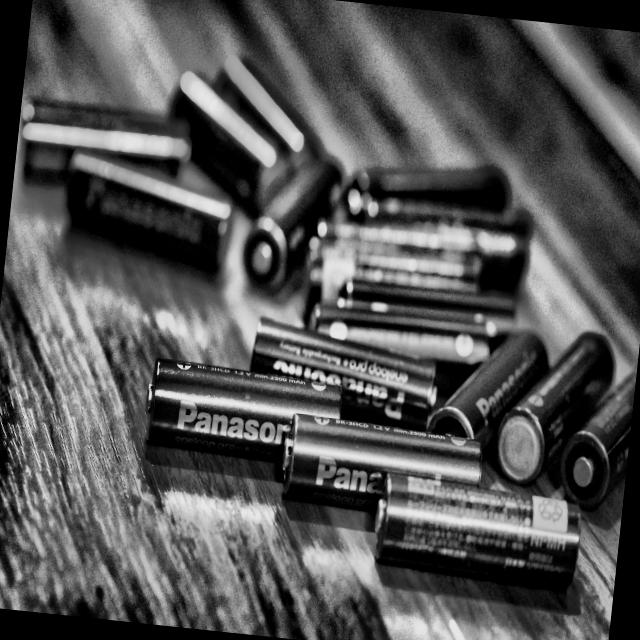drycell: (354, 468, 598, 608), (276, 400, 492, 535)
